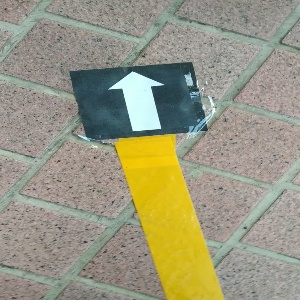straight: (71, 62, 208, 139)
